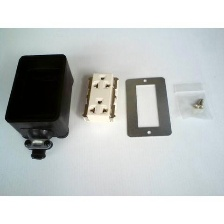three_eye_plug: (3, 52, 76, 144), (79, 69, 122, 128)
